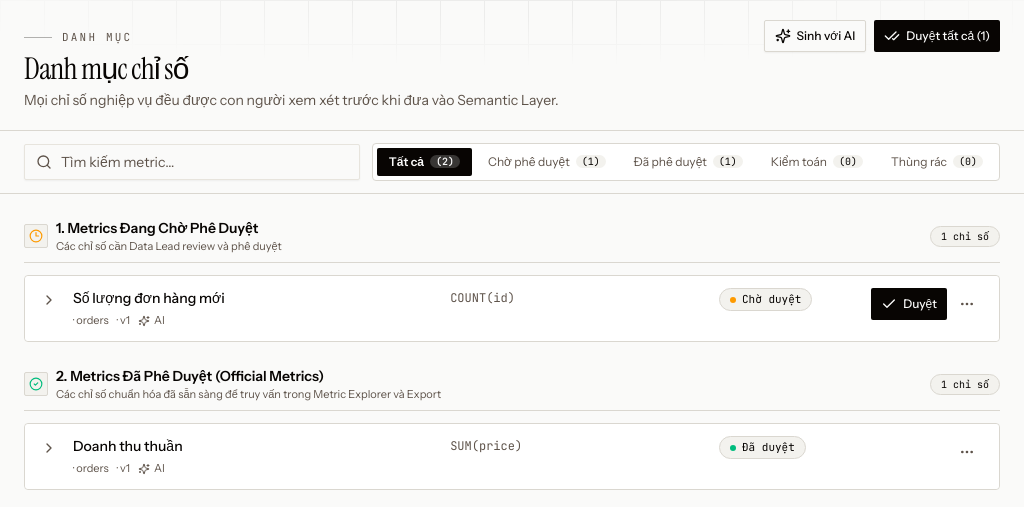
Test case: MetricsCatalogView › filters metrics when filter tab is clicked
# Click on "Chờ phê duyệt" tab
Step 1. Click the button "Chờ phê duyệt (1)" → (547, 162), box [476,148,618,176]
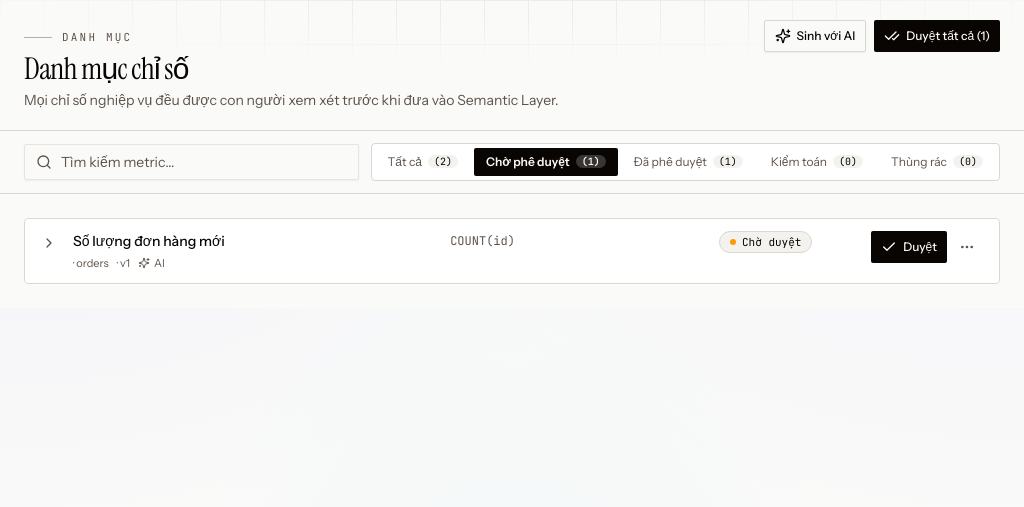
Expected: the text "Số lượng đơn hàng mới" is shown, [73,232,225,250]
Expected: the button "Doanh thu thuần" is gone
